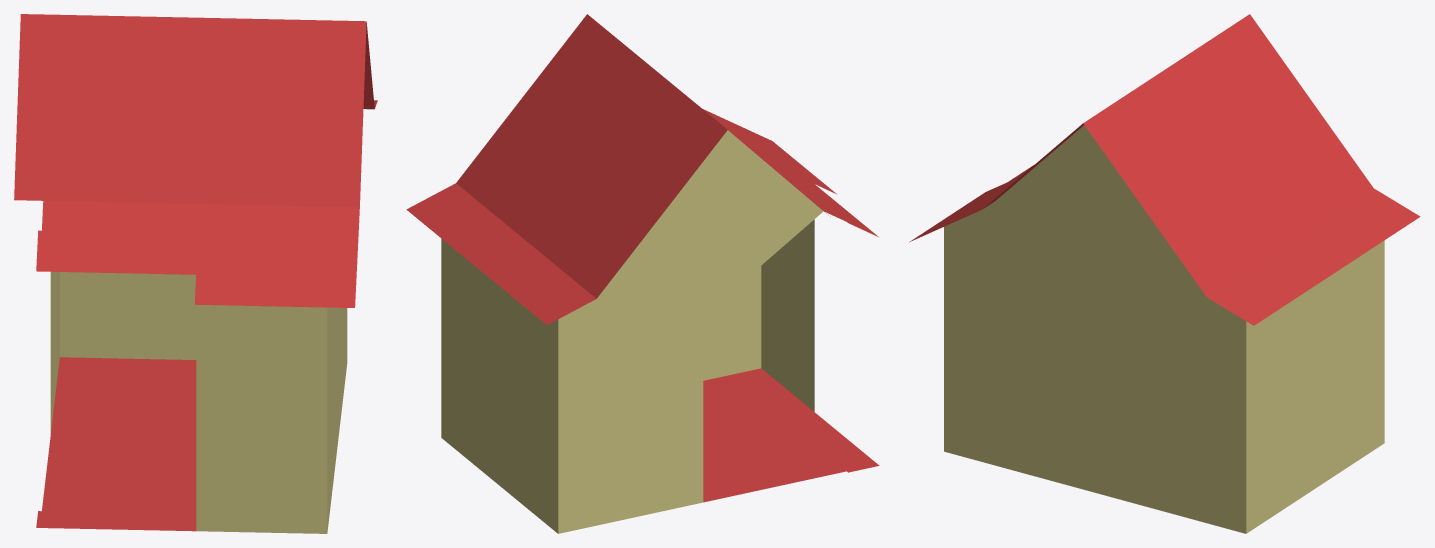
3 renders of one model, left to right at view 1: azimuth 30°, elevation 25°; view 2: azimuth 150°, elevation 25°; view 3: azimuth 270°, elevation 25°, orthographic. The views are drawn at different scales.
Size of the model in its own units: 12.96 by 14.81 by 12.1.
